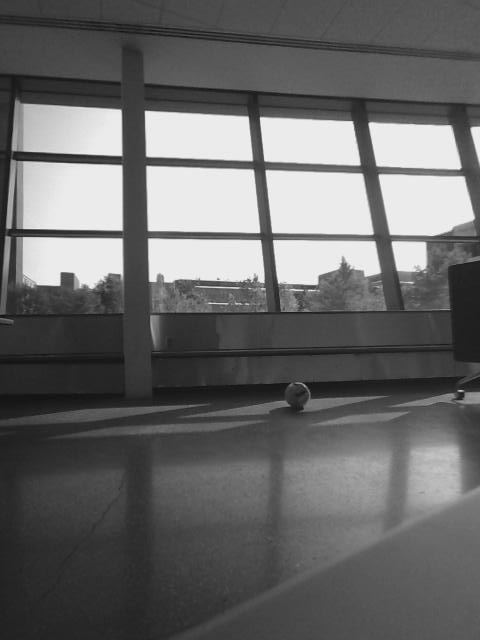ball: (283, 380, 313, 412)
